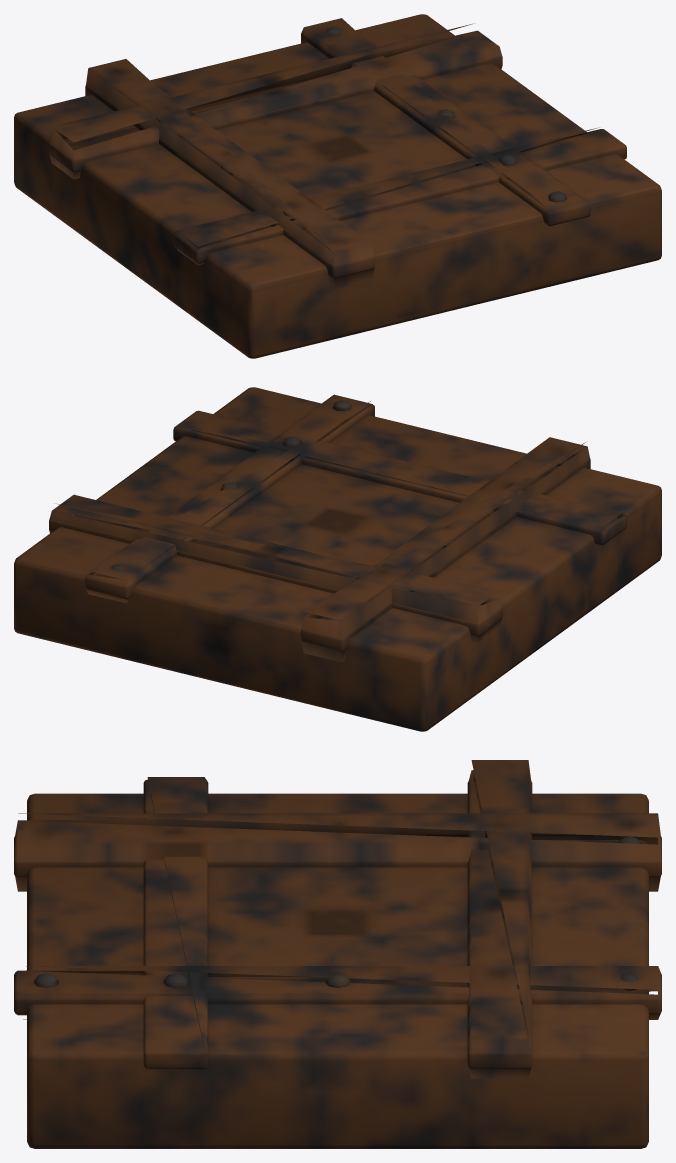
File: gibbet_plate_top.obj
3 renders of one model, top to bottom at view 1: azimuth 30°, elevation 25°; view 2: azimuth 150°, elevation 25°; view 3: azimuth 270°, elevation 25°, orthographic. The views are drawn at different scales.
Visible parts, largest first — view 1: part0, part1; view 2: part0, part1; view 3: part0, part1.
Boxes of the visible parts, x1,y1,x2,y2 form: part0: (14, 14, 661, 358); part1: (110, 27, 567, 220); part0: (14, 387, 661, 731); part1: (111, 400, 566, 620); part0: (14, 760, 661, 1148); part1: (33, 836, 641, 991).
Bounding box in the file's own units: 1 × 0.2154 × 1.
